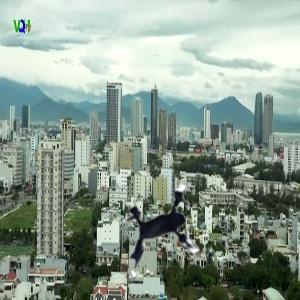drone: (105, 172, 232, 299)
